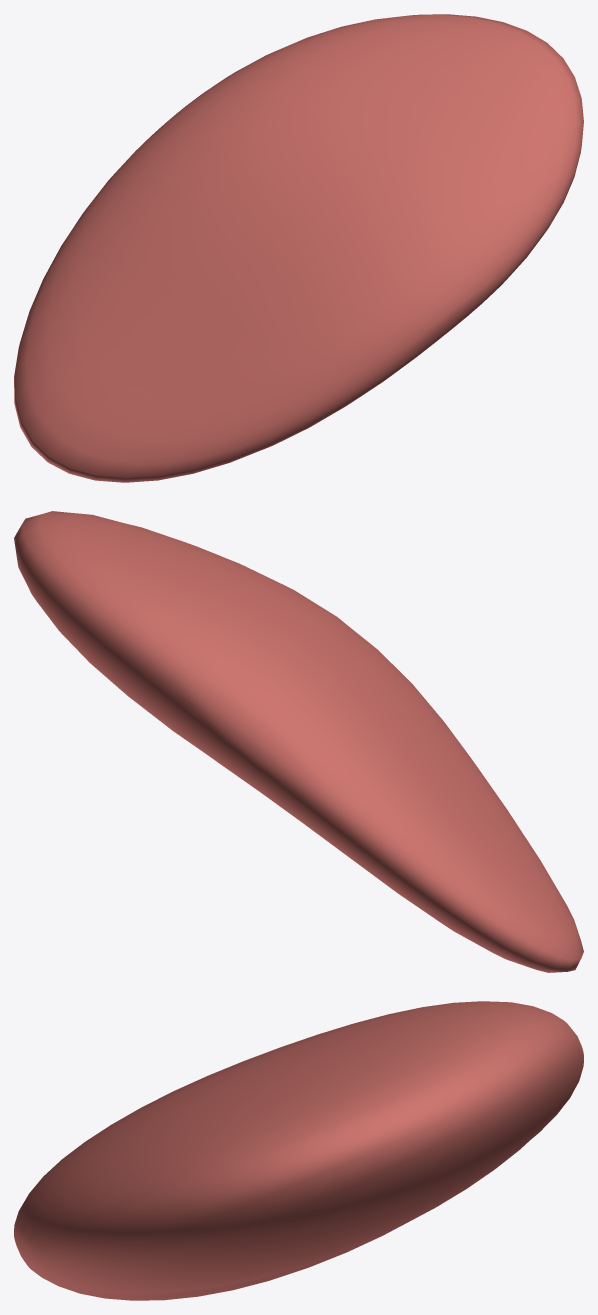
3 renders of one model, top to bottom at view 1: azimuth 30°, elevation 25°; view 2: azimuth 150°, elevation 25°; view 3: azimuth 270°, elevation 25°, orthographic. The views are drawn at different scales.
Parts seen in each view (by area): view 1: 右侧闭孔内肌腱下囊; view 2: 右侧闭孔内肌腱下囊; view 3: 右侧闭孔内肌腱下囊.
Part boxes in pixels (bbox=[...]): 右侧闭孔内肌腱下囊: bbox=[14, 14, 583, 482]; 右侧闭孔内肌腱下囊: bbox=[14, 511, 583, 972]; 右侧闭孔内肌腱下囊: bbox=[14, 1001, 583, 1300].
Size of the model in its own units: 0.0187 by 0.011 by 0.0118.
